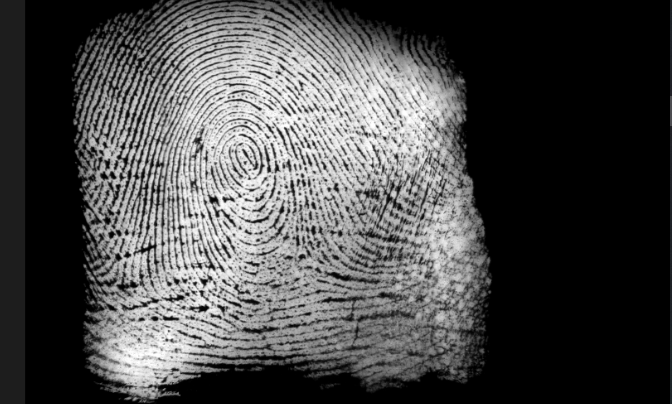nucelo: (225, 138, 259, 174)
verticilo: (287, 241, 321, 270), (103, 270, 131, 296)
